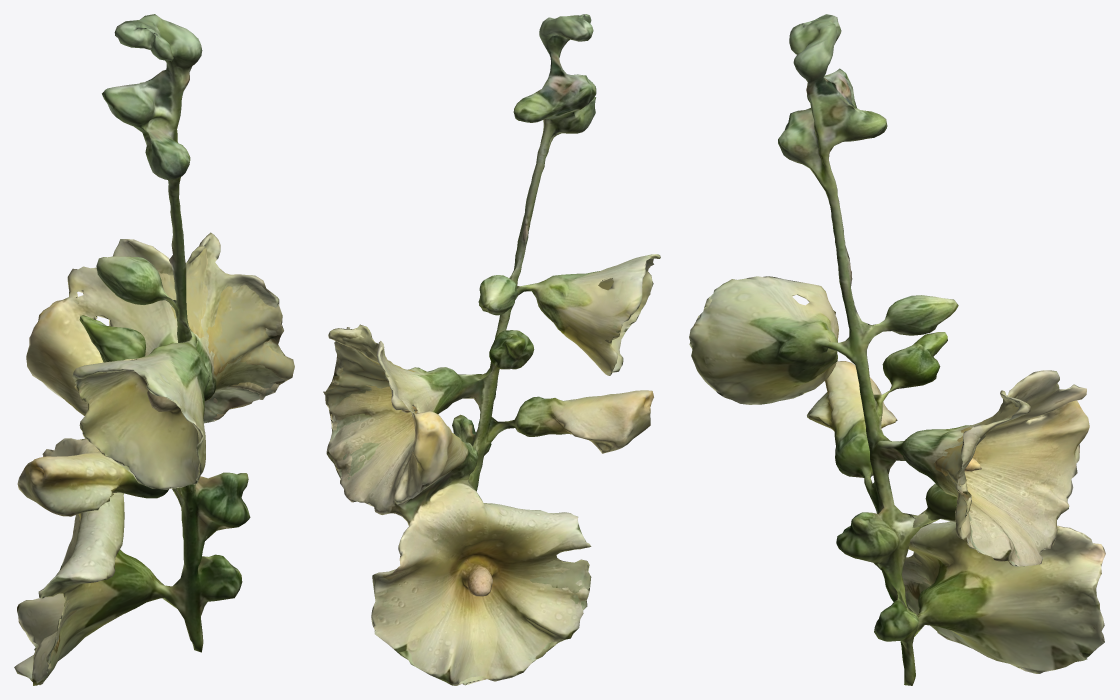
Rendered from blume.glb.
The picture shows the model from 3 angles, left to right: view 1: azimuth 30°, elevation 25°; view 2: azimuth 150°, elevation 25°; view 3: azimuth 270°, elevation 25°; orthographic projection. The views are drawn at different scales.
Visible parts, largest first — view 1: 3DModel; view 2: 3DModel; view 3: 3DModel.
Boxes of the visible parts, x1=… form: 3DModel: x1=14, y1=14, x2=294, y2=685; 3DModel: x1=323, y1=14, x2=660, y2=685; 3DModel: x1=689, y1=14, x2=1105, y2=685.
Bounding box in the file's own units: 6.58 × 13.88 × 8.07.
Materials: 1 (1 with a texture image).
